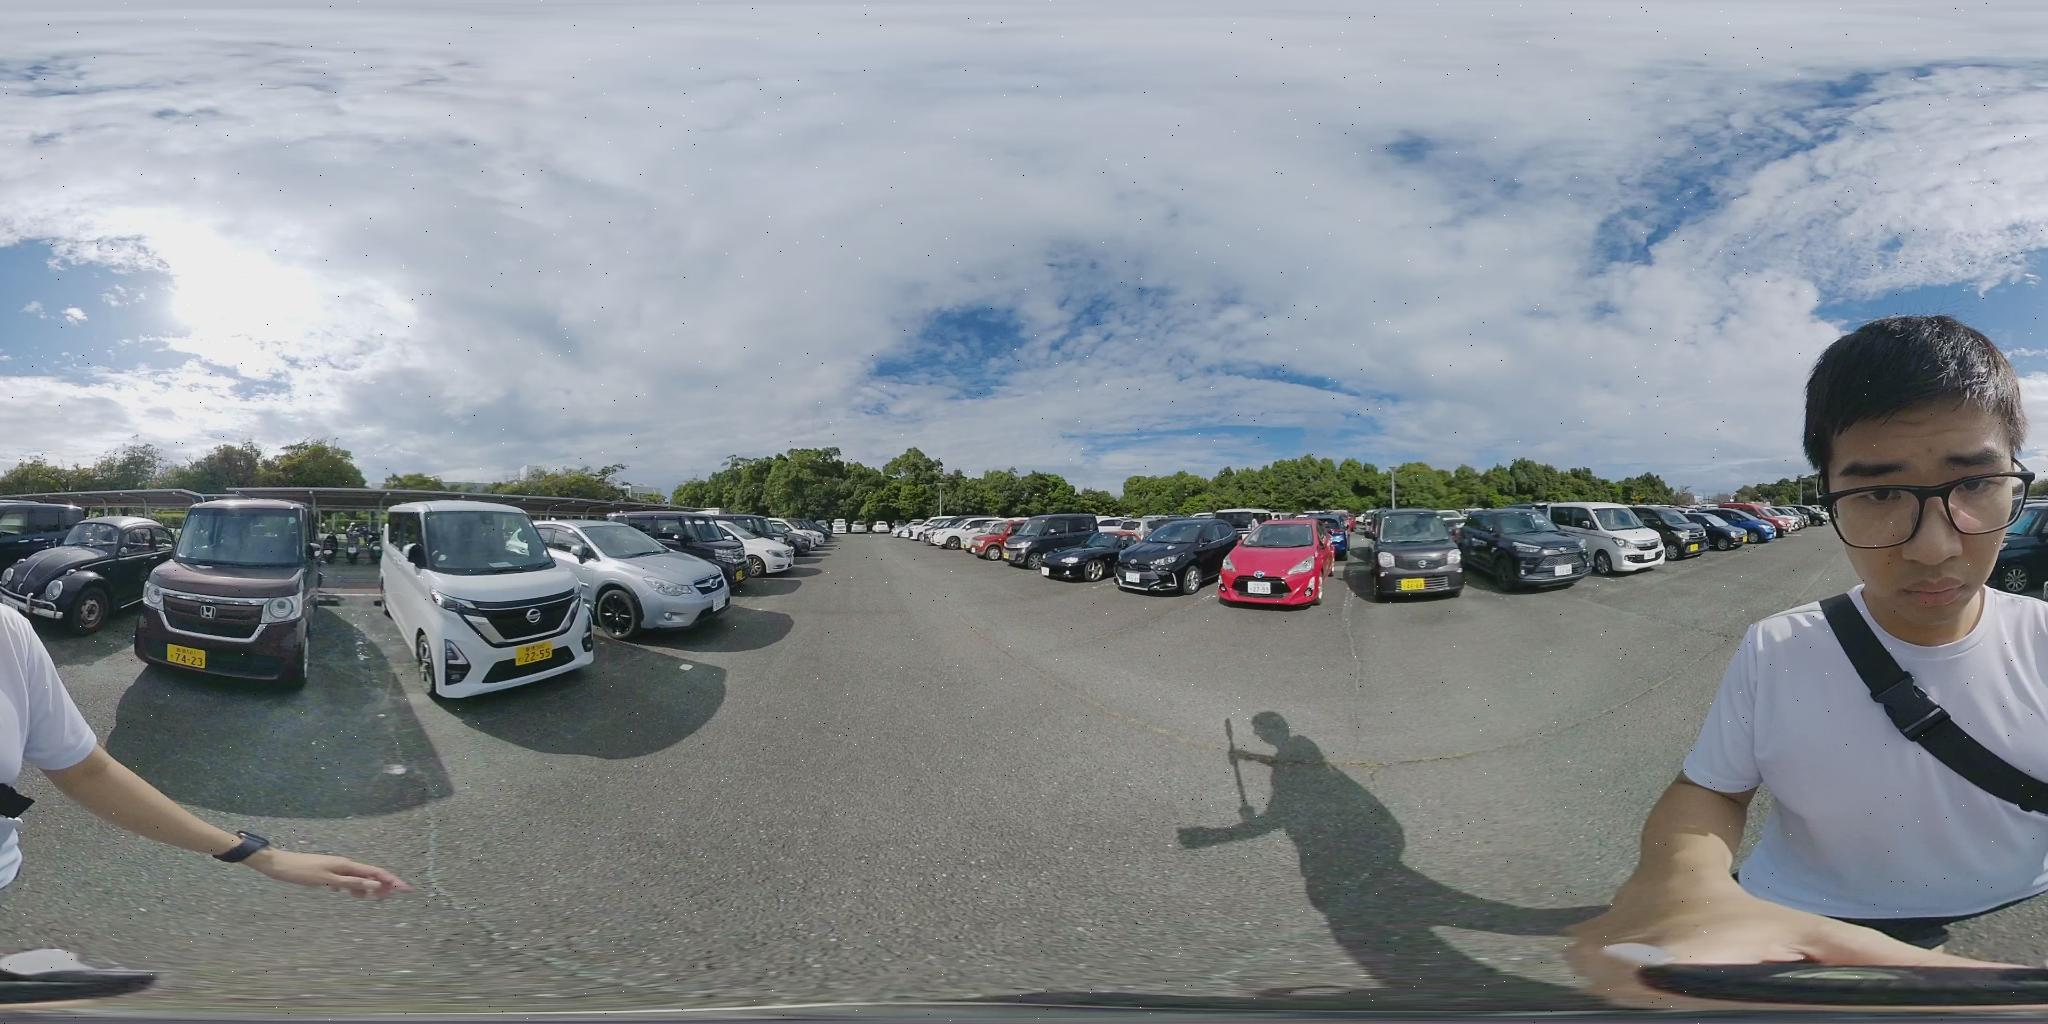car: (371, 498, 605, 699), (128, 491, 329, 691), (529, 522, 734, 637), (0, 517, 176, 639), (613, 513, 795, 581), (1451, 509, 1592, 593), (1206, 521, 1335, 609), (1112, 517, 1250, 594), (1352, 509, 1463, 600), (1536, 505, 1668, 572), (3, 502, 88, 579), (990, 516, 1097, 567), (1627, 509, 1714, 559), (1664, 511, 1745, 554), (1689, 511, 1771, 549), (921, 520, 990, 550), (963, 520, 1017, 556)
